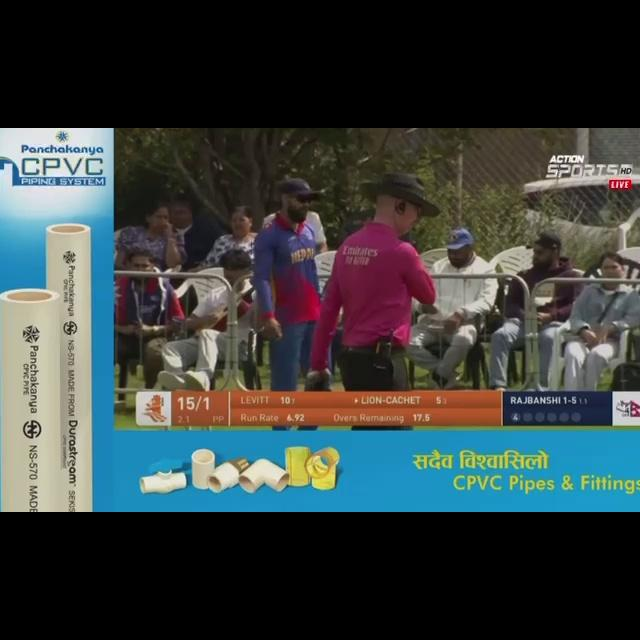umpire: (307, 154, 433, 429)
